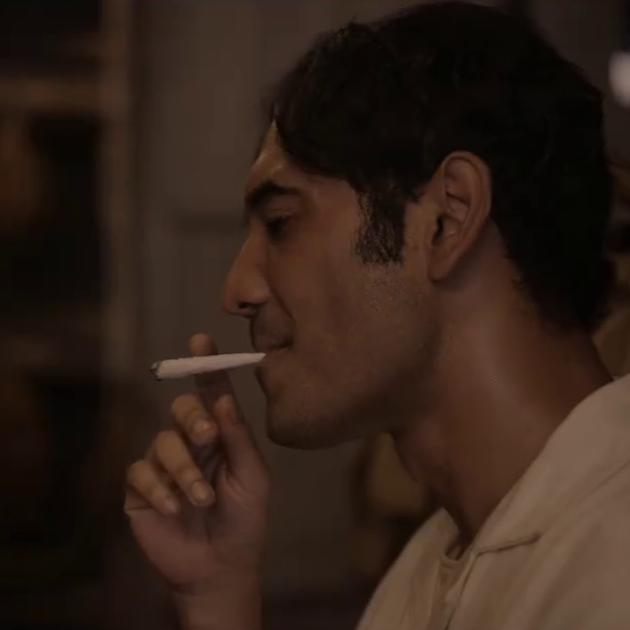cigarette: (148, 340, 273, 388)
